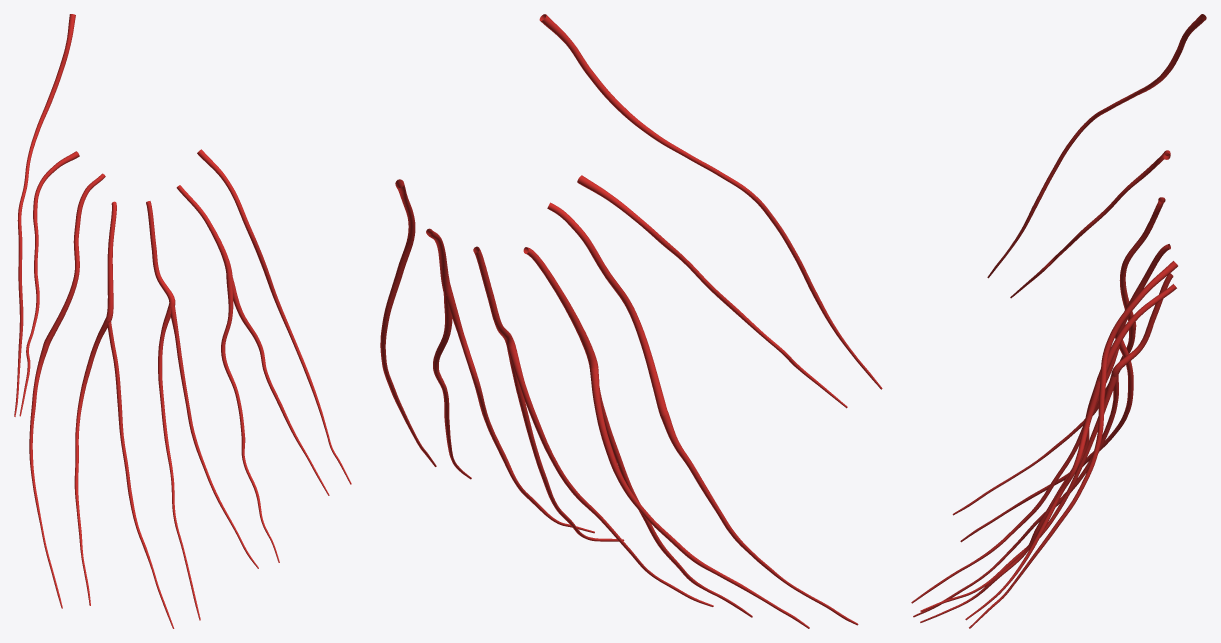
The model's file is circulatorio-common-palmar-digital-arteries-r.glb.
3 renders of one model, left to right at view 1: azimuth 30°, elevation 25°; view 2: azimuth 150°, elevation 25°; view 3: azimuth 270°, elevation 25°, orthographic. The views are drawn at different scales.
Visible parts, largest first — view 1: Proper palmar digital arteries.r, Common palmar digital arteries.r; view 2: Proper palmar digital arteries.r, Common palmar digital arteries.r; view 3: Proper palmar digital arteries.r, Common palmar digital arteries.r.
Part boxes in pixels (x1,y1,x2,y2): Proper palmar digital arteries.r: (14,14,351,628); Common palmar digital arteries.r: (43,173,232,345); Proper palmar digital arteries.r: (380,14,882,628); Common palmar digital arteries.r: (426,202,668,416); Proper palmar digital arteries.r: (911,14,1206,628); Common palmar digital arteries.r: (1097,197,1176,381).
Size of the model in its own units: 0.107 by 0.1608 by 0.0714.
